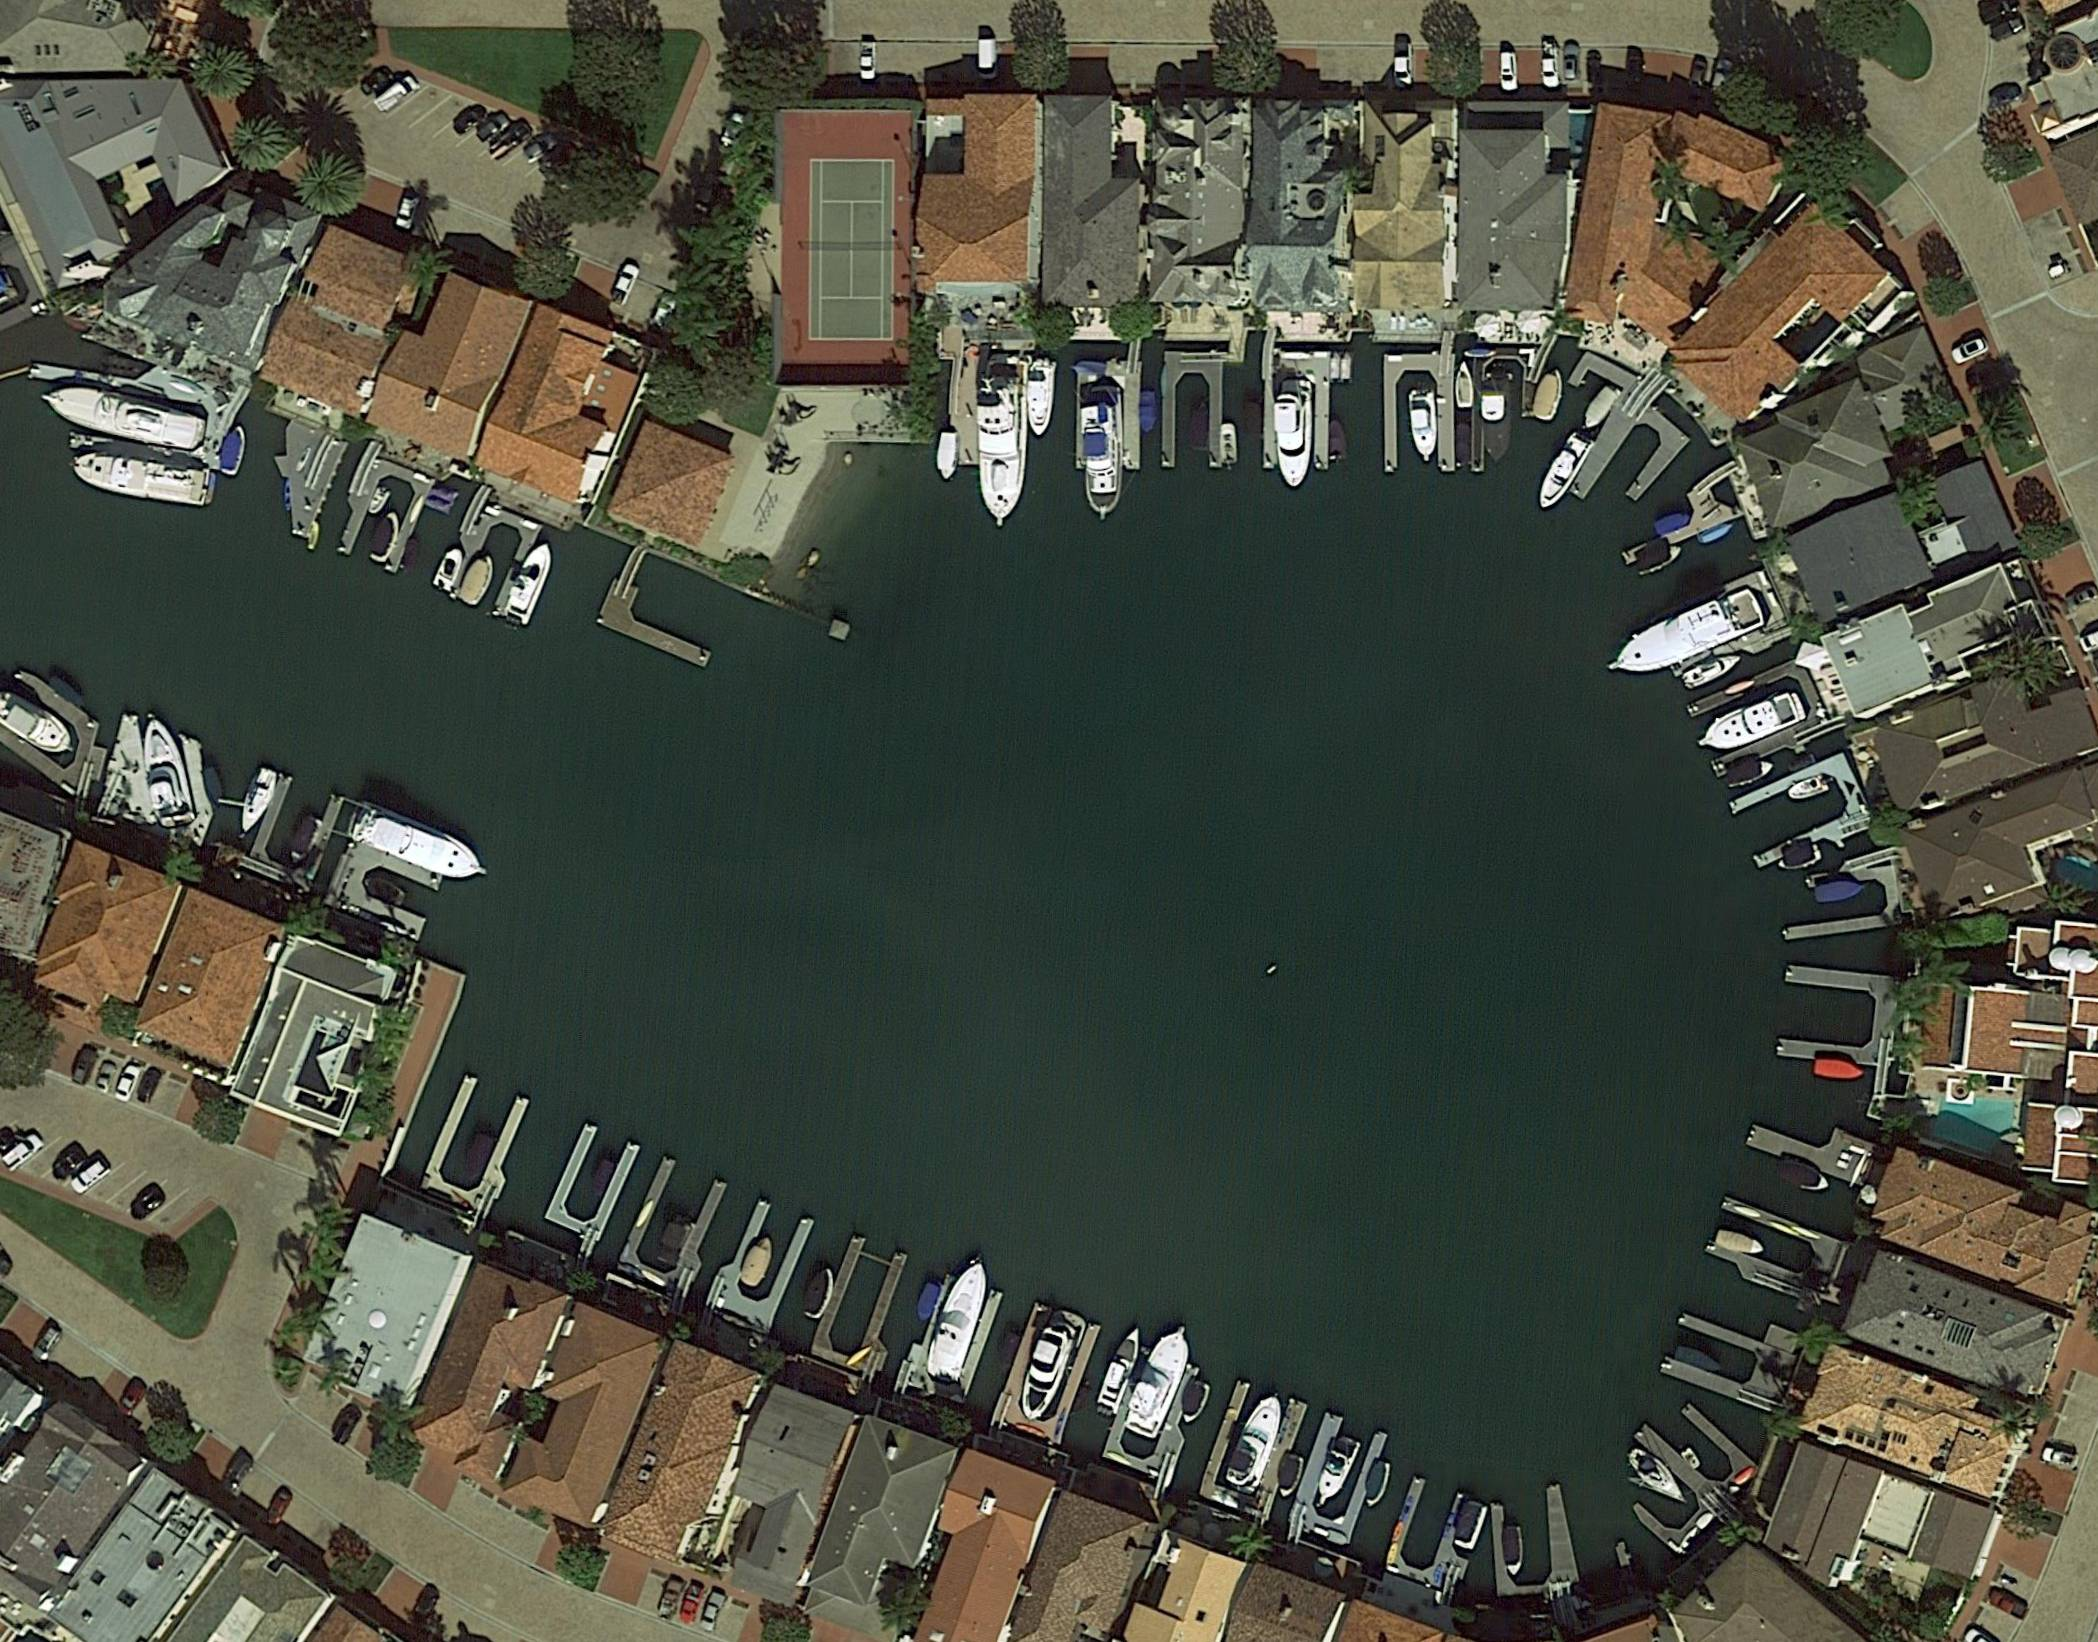harbor: (1519, 337, 1701, 537), (1599, 1388, 1763, 1555), (1728, 751, 1880, 882), (417, 1071, 542, 1225), (1688, 652, 1836, 778), (1659, 1293, 1807, 1417), (3, 652, 119, 811), (1700, 1194, 1844, 1315), (596, 545, 736, 669), (615, 1155, 736, 1298), (809, 1231, 923, 1381), (1654, 569, 1790, 690), (1197, 1378, 1310, 1524), (703, 1191, 816, 1335), (993, 1301, 1102, 1448), (1282, 1410, 1391, 1555), (325, 439, 439, 576), (894, 1271, 1003, 1412), (1102, 1347, 1209, 1489), (536, 1122, 644, 1260), (434, 487, 548, 617), (1383, 1473, 1492, 1599), (242, 772, 346, 894), (1776, 962, 1899, 1066), (322, 840, 444, 942), (1609, 472, 1742, 566), (1745, 1100, 1880, 1191), (245, 421, 347, 538), (1488, 1478, 1585, 1599), (1383, 342, 1456, 472), (1781, 865, 1904, 942), (1078, 349, 1144, 472), (1264, 346, 1330, 468), (1163, 351, 1224, 468)
large vehicle: (976, 39, 1000, 82)
ship: (1602, 586, 1769, 692), (349, 801, 496, 896), (36, 380, 211, 455), (923, 1255, 998, 1381), (1122, 1322, 1201, 1441), (1012, 1308, 1088, 1426), (1693, 686, 1809, 761), (68, 451, 208, 509), (977, 380, 1032, 523), (1224, 1390, 1291, 1494), (136, 715, 196, 828), (0, 688, 82, 765), (1529, 429, 1597, 514), (1081, 387, 1122, 521), (502, 538, 560, 629), (1623, 1444, 1694, 1513), (1097, 1323, 1148, 1415), (1308, 1434, 1362, 1511), (1275, 380, 1311, 492), (237, 766, 279, 838), (1681, 647, 1747, 692), (1773, 1157, 1837, 1199), (456, 550, 501, 610), (1577, 382, 1625, 434), (1408, 390, 1442, 462), (737, 1231, 778, 1289), (1025, 359, 1056, 436), (799, 1266, 840, 1322), (368, 508, 405, 566), (1533, 366, 1568, 422), (431, 545, 468, 594), (1178, 1380, 1212, 1429), (1672, 1344, 1723, 1376), (220, 426, 250, 479), (1717, 1230, 1769, 1260), (1812, 877, 1870, 904), (1778, 841, 1824, 876), (1275, 1455, 1306, 1502), (935, 431, 962, 480), (914, 1279, 943, 1323), (1502, 1526, 1526, 1577), (1786, 777, 1829, 804), (1814, 1058, 1865, 1080), (1456, 363, 1475, 409)
small vehicle: (371, 72, 422, 118), (485, 119, 536, 164), (2, 1129, 48, 1175), (124, 1186, 170, 1228), (70, 1157, 112, 1197), (27, 1323, 66, 1368), (220, 1451, 257, 1497), (262, 1484, 296, 1531), (358, 63, 398, 102), (329, 1405, 364, 1450), (608, 261, 640, 308), (1987, 1587, 2030, 1623), (66, 1046, 100, 1090), (451, 102, 490, 140), (473, 111, 514, 146), (51, 1148, 89, 1186), (519, 131, 560, 165), (392, 191, 424, 233), (696, 1589, 727, 1633), (116, 1380, 152, 1417), (678, 1581, 707, 1625), (112, 1065, 143, 1105), (135, 1066, 165, 1105), (1950, 336, 1991, 365), (657, 1579, 685, 1622), (1991, 15, 2028, 46), (2040, 1444, 2081, 1472), (2062, 581, 2098, 611), (1684, 60, 1711, 99), (1621, 51, 1647, 90), (92, 1059, 119, 1095), (1395, 41, 1413, 89), (857, 41, 877, 82), (1543, 44, 1562, 89), (1499, 51, 1519, 90), (1562, 44, 1580, 83)
swimming pool: (1933, 1090, 2016, 1162)
tennis court: (809, 160, 896, 341)
